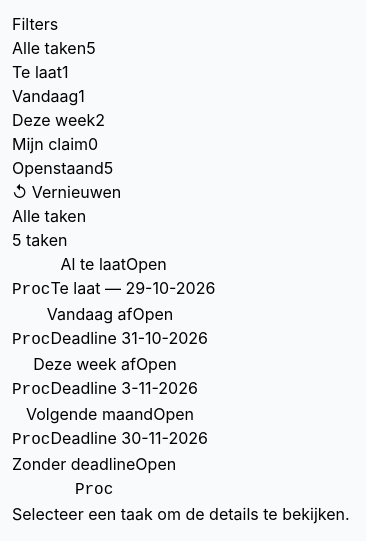
TakenInbox deadline filters › "Vandaag" holds only tasks due on the current calendar day
Expected: the text "Al te laat" is shown, [61, 254, 126, 274]
Click the button "Vandaag1" at [48, 96], box [12, 84, 85, 108]
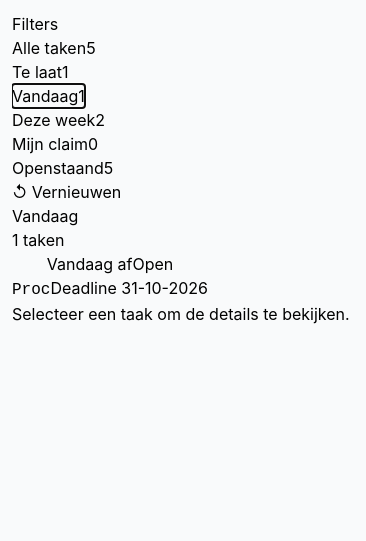
Expected: the text "Vandaag af" is shown, [47, 254, 132, 274]
Result: the button "Deze week af" is gone
Result: the button "Zonder deadline" is gone
